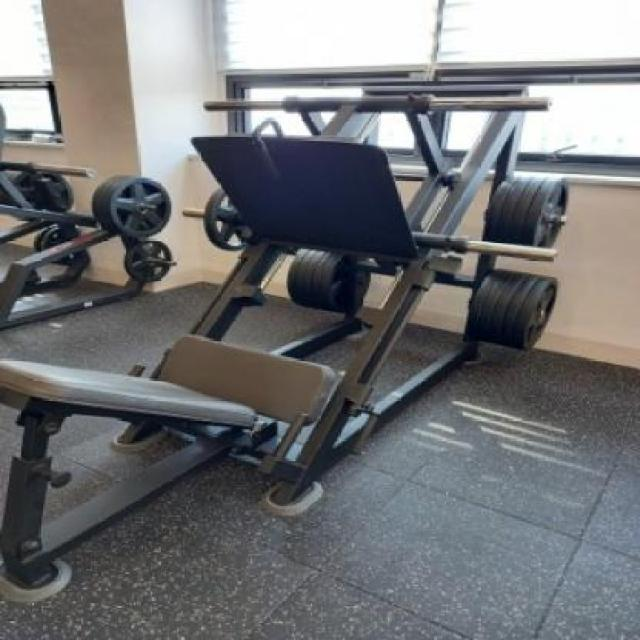leg press: (0, 52, 606, 640)
